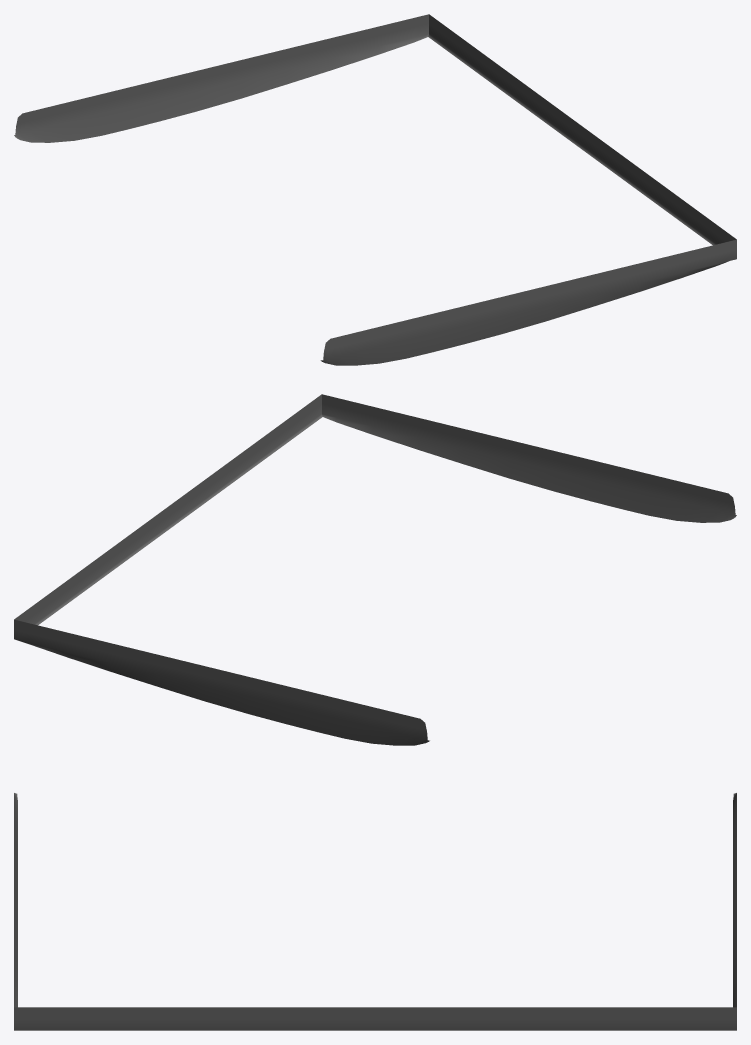
File: Book_14_book_front_14_1.obj
3 renders of one model, top to bottom at view 1: azimuth 30°, elevation 25°; view 2: azimuth 150°, elevation 25°; view 3: azimuth 270°, elevation 25°, orthographic. The views are drawn at different scales.
Bounding box in the file's own units: 0.1462 × 0.0135 × 0.1878.
1 material, 1 textured.
